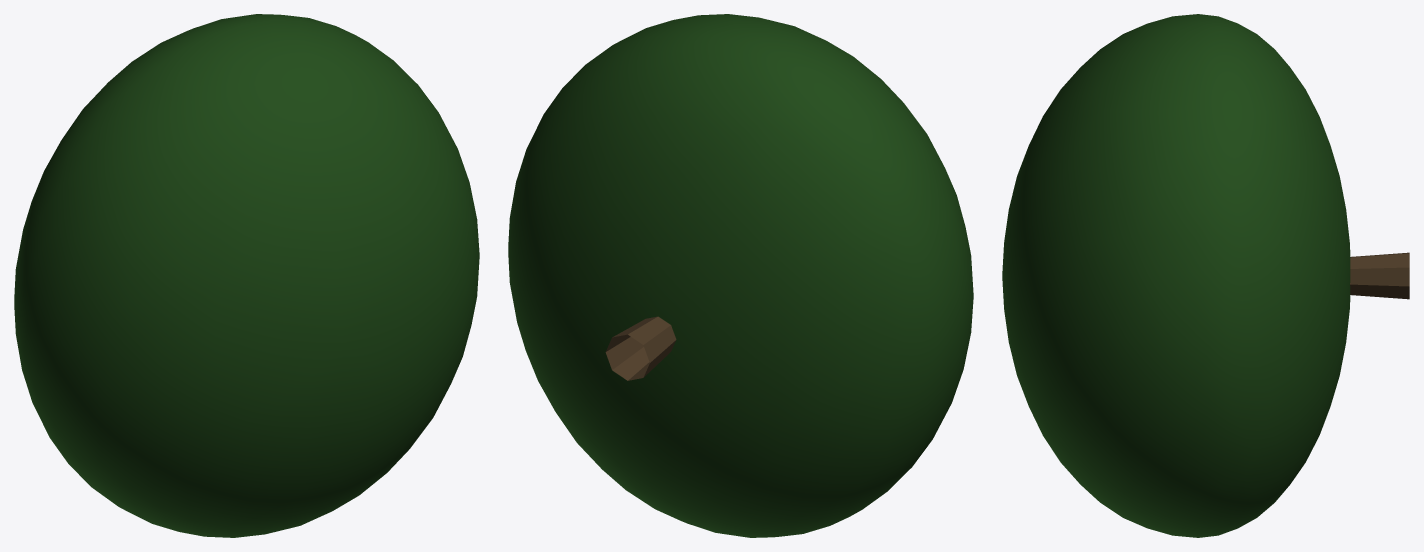
File: citrus_plain_d.obj
The picture shows the model from 3 angles, left to right: view 1: azimuth 30°, elevation 25°; view 2: azimuth 150°, elevation 25°; view 3: azimuth 270°, elevation 25°; orthographic projection. The views are drawn at different scales.
Visible parts, largest first — view 1: canopy; view 2: canopy, trunk; view 3: canopy, trunk.
Part boxes in pixels (x1,y1,x2,y2): canopy: [14, 14, 479, 537]; canopy: [508, 14, 973, 537]; trunk: [605, 316, 676, 380]; canopy: [1002, 14, 1350, 537]; trunk: [1350, 252, 1409, 299].
Size of the model in its own units: 3.01 by 3.33 by 2.54.
